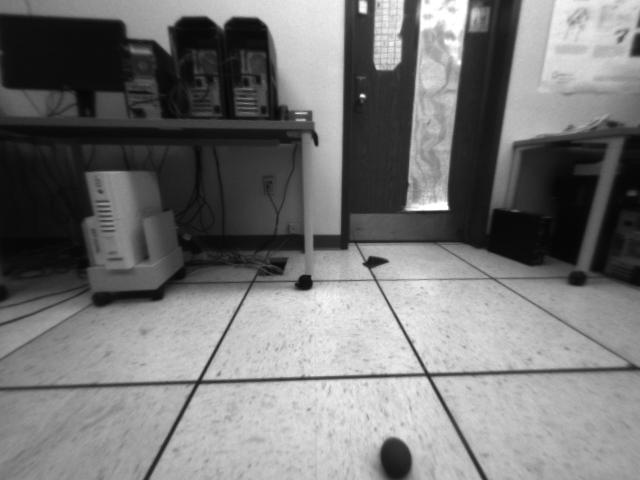dogtoy: (370, 428, 419, 480)
